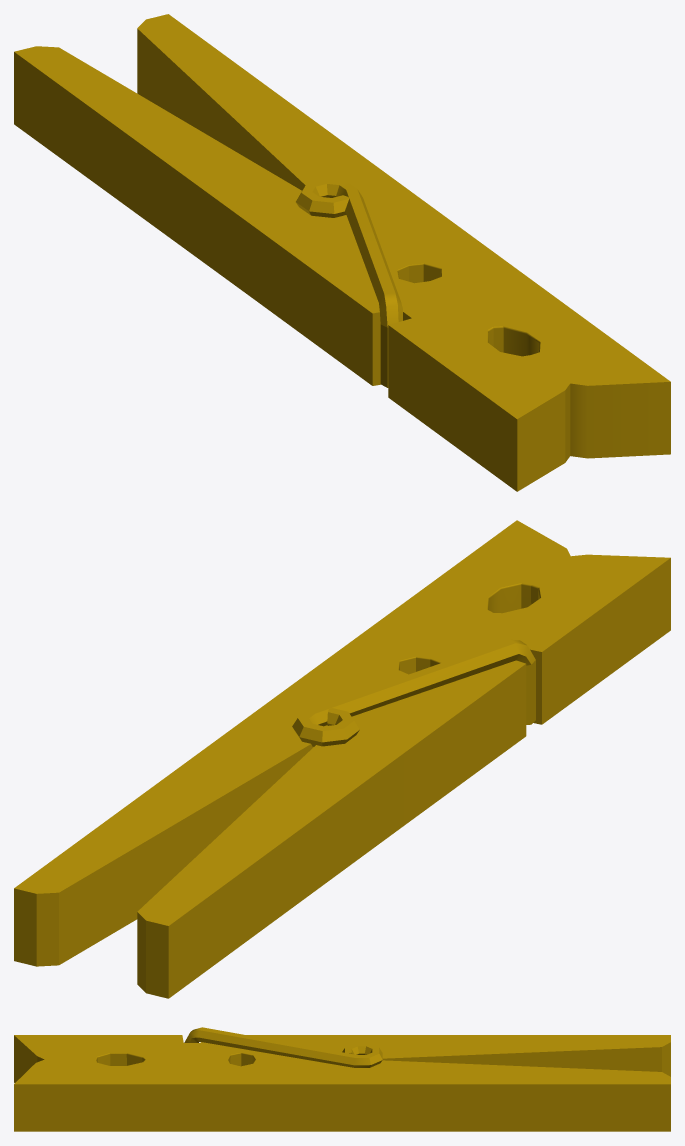
The model's file is Clothespin_04.fbx.
The picture shows the model from 3 angles, top to bottom: view 1: azimuth 30°, elevation 25°; view 2: azimuth 150°, elevation 25°; view 3: azimuth 270°, elevation 25°; orthographic projection. The views are drawn at different scales.
Visible parts, largest first — view 1: Clothespin_04; view 2: Clothespin_04; view 3: Clothespin_04.
Boxes of the visible parts, box(x1,y1,x2,y2) form: Clothespin_04: box(14, 14, 670, 491); Clothespin_04: box(14, 520, 670, 998); Clothespin_04: box(14, 1027, 670, 1131).
Bounding box in the file's own units: 17.09 × 9.51 × 96.28.
